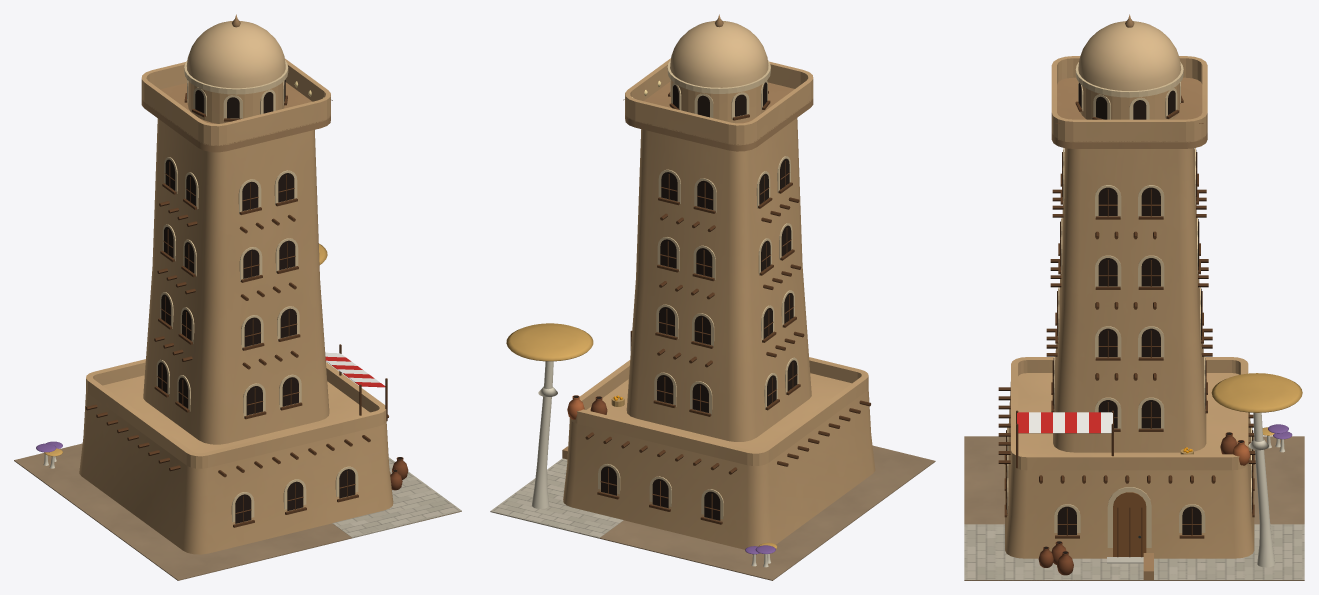
The model's file is hl_vez.glb.
3 views of the same model, side by side, from view 1: azimuth 30°, elevation 25°; view 2: azimuth 150°, elevation 25°; view 3: azimuth 270°, elevation 25° (orthographic). The views are drawn at different scales.
Visible parts, largest first — view 1: hlina_zem; view 2: hlina_zem; view 3: hlina_zem.
Boxes of the visible parts, x1=… form: hlina_zem: x1=14, y1=14, x2=461, y2=580; hlina_zem: x1=490, y1=14, x2=935, y2=580; hlina_zem: x1=964, y1=14, x2=1304, y2=580.
Bounding box in the file's own units: 14.21 × 22.65 × 14.16.
1 material, 1 textured.
